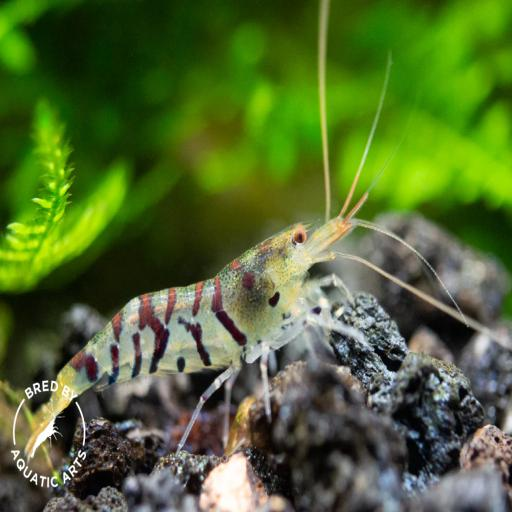Shrimp: (20, 45, 474, 456)
